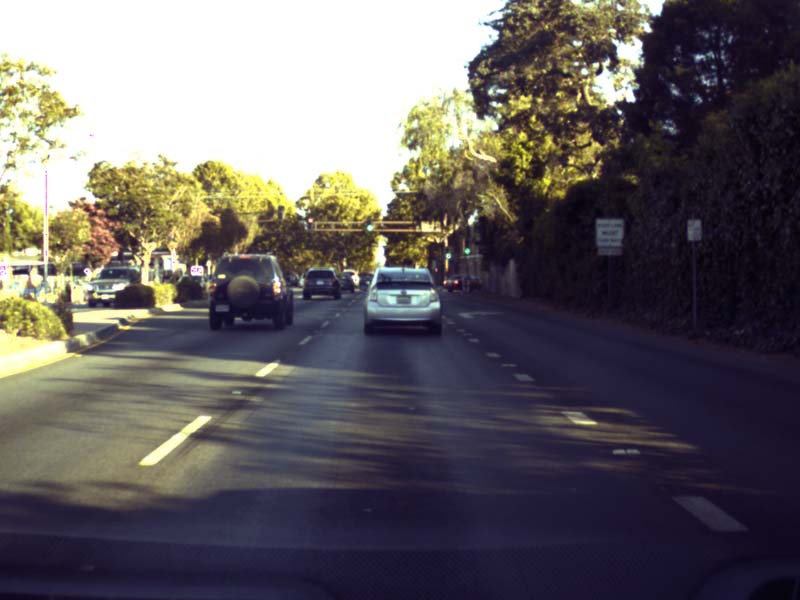Green: (464, 239, 470, 255), (365, 218, 372, 231), (444, 246, 450, 258)
Red: (306, 217, 312, 230)
